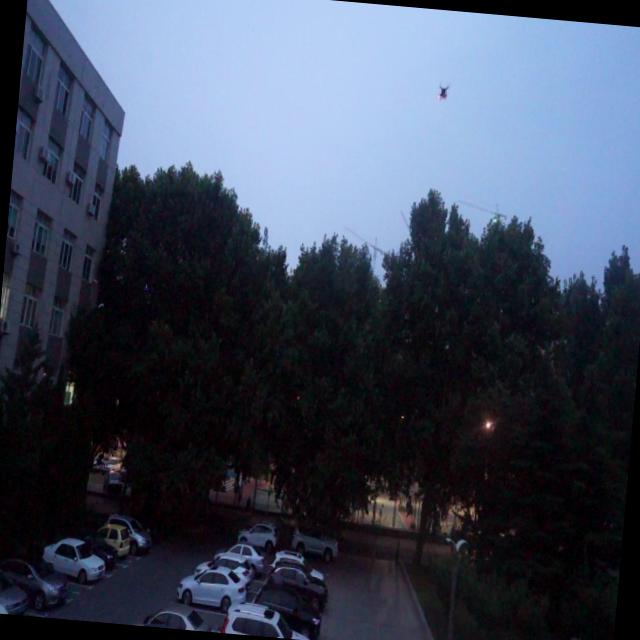drone: (436, 80, 451, 104)
